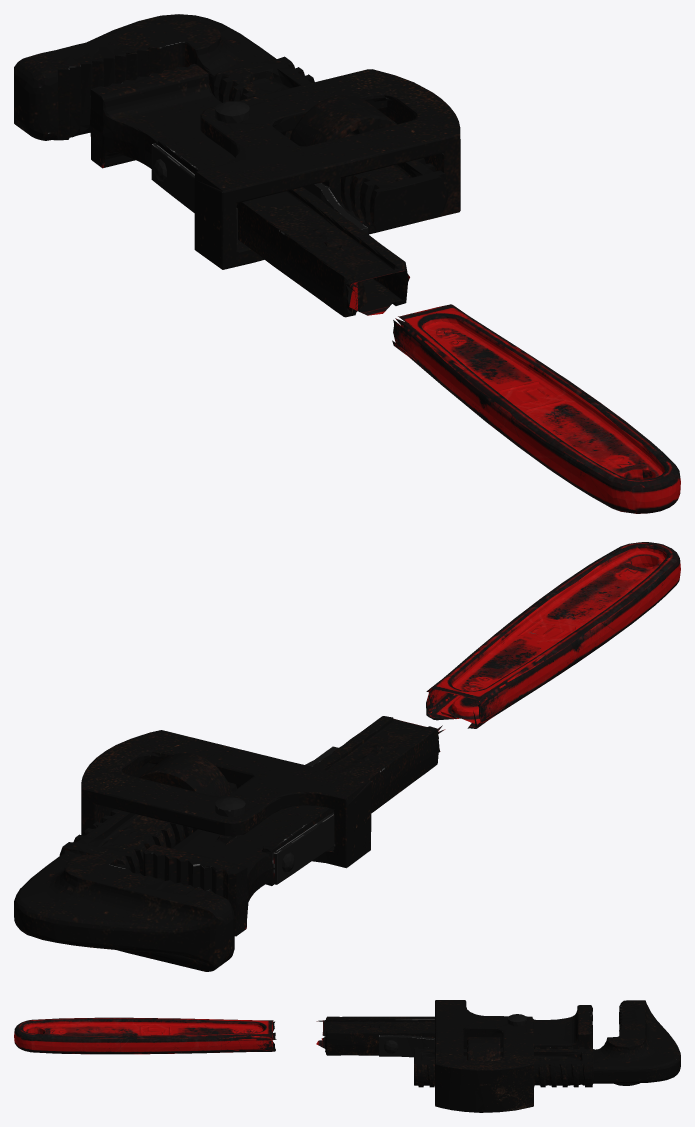
The model's file is BrokenWrench.fbx.
3 renders of one model, top to bottom at view 1: azimuth 30°, elevation 25°; view 2: azimuth 150°, elevation 25°; view 3: azimuth 270°, elevation 25°, orthographic. The views are drawn at different scales.
Parts seen in each view (by area): view 1: Assem1_LR01, Assem1_LR01.001; view 2: Assem1_LR01, Assem1_LR01.001; view 3: Assem1_LR01, Assem1_LR01.001.
Part boxes in pixels (bbox=[...]): Assem1_LR01: bbox=[14, 14, 460, 317]; Assem1_LR01.001: bbox=[392, 304, 680, 513]; Assem1_LR01: bbox=[14, 716, 445, 971]; Assem1_LR01.001: bbox=[426, 542, 680, 728]; Assem1_LR01: bbox=[316, 1000, 680, 1112]; Assem1_LR01.001: bbox=[14, 1017, 276, 1054].
Bounding box in the file's own units: 294 × 101 × 1095.
